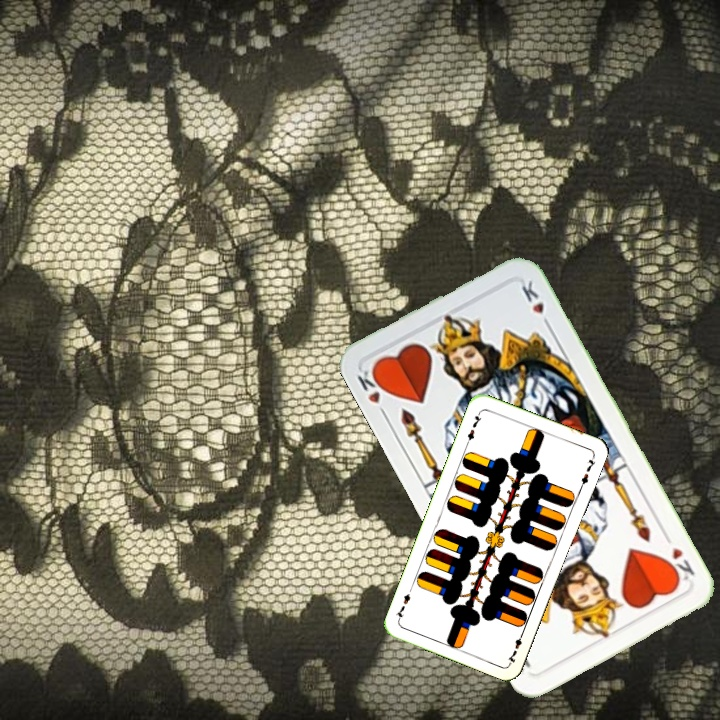E7: (503, 627, 527, 666), (463, 408, 484, 447)
HK: (353, 363, 391, 421), (662, 543, 698, 587)
